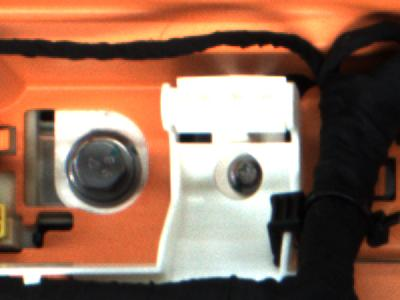nut_b: (60, 126, 139, 205)
screw_m: (225, 154, 276, 199)
